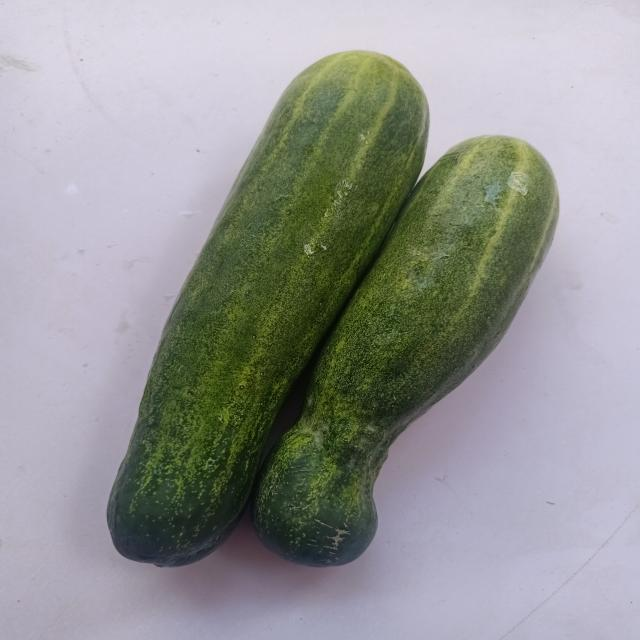Cucumber: (106, 50, 429, 567), (253, 135, 559, 567)
